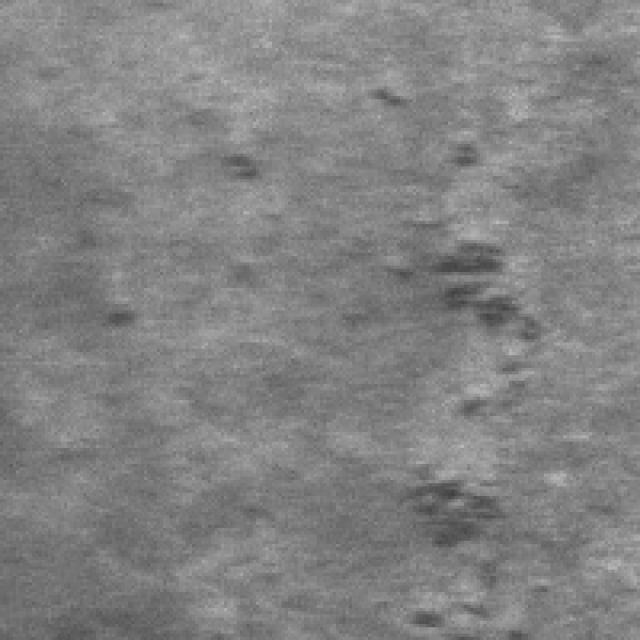rolled-in_scale: (378, 214, 540, 416), (400, 458, 534, 634)
